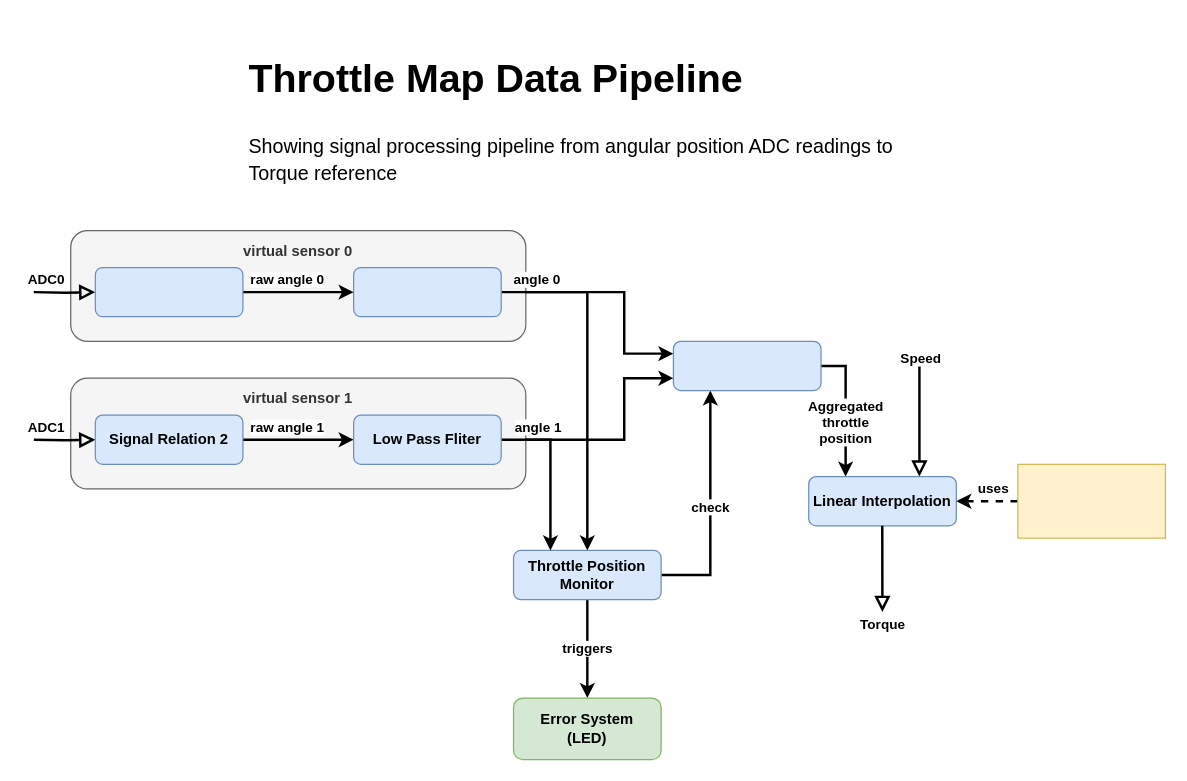
The diagram is 1187 pixels wide and 781 high, and some of its shapes have lost their labels. The centre of each missing label's shape, as x and y in pixels:
Low Pass Filter: point 426,291
Signal Aggregation: point 746,365
Signal relation 1: point 168,291
Throttle Map Table: point 1091,500
